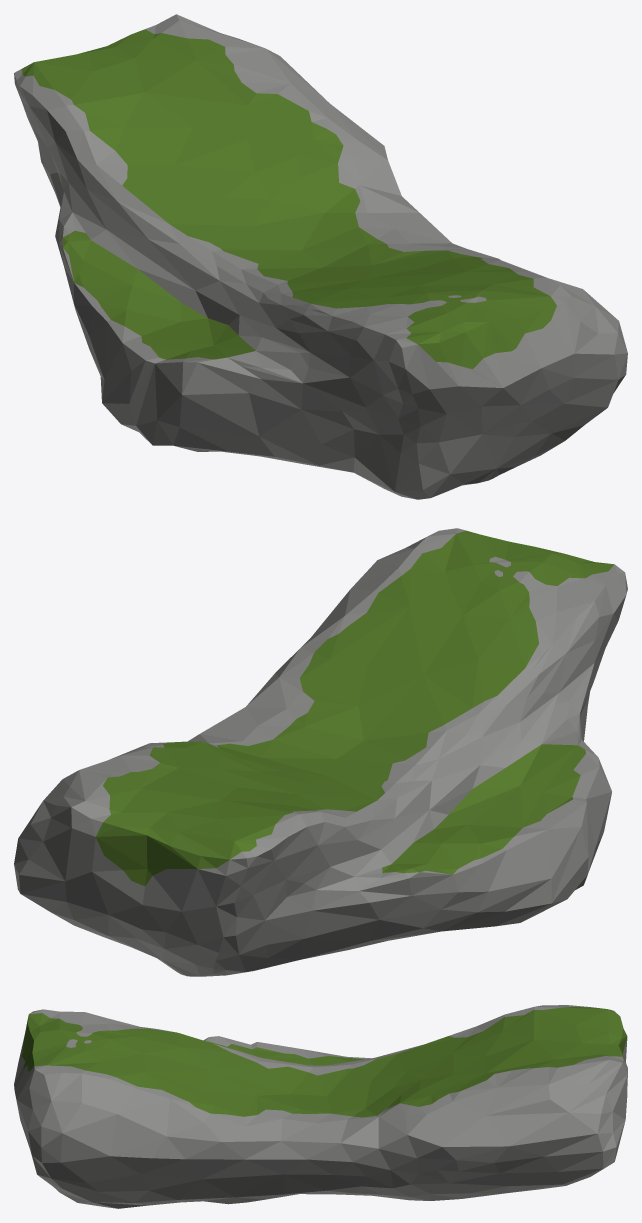
File: Cavern_FloorGrass_Narrow_Dip-02.fbx
3 renders of one model, top to bottom at view 1: azimuth 30°, elevation 25°; view 2: azimuth 150°, elevation 25°; view 3: azimuth 270°, elevation 25°, orthographic. The views are drawn at different scales.
Parts seen in each view (by area): view 1: Cavern_FloorGrass_Narrow_Dip-02; view 2: Cavern_FloorGrass_Narrow_Dip-02; view 3: Cavern_FloorGrass_Narrow_Dip-02.
Boxes of the visible parts, x1,y1,x2,y2 form: Cavern_FloorGrass_Narrow_Dip-02: [14, 14, 627, 499]; Cavern_FloorGrass_Narrow_Dip-02: [14, 528, 627, 976]; Cavern_FloorGrass_Narrow_Dip-02: [14, 1005, 627, 1208].
Bounding box in the file's own units: 932 × 484 × 1759.
1 material, 1 textured.
